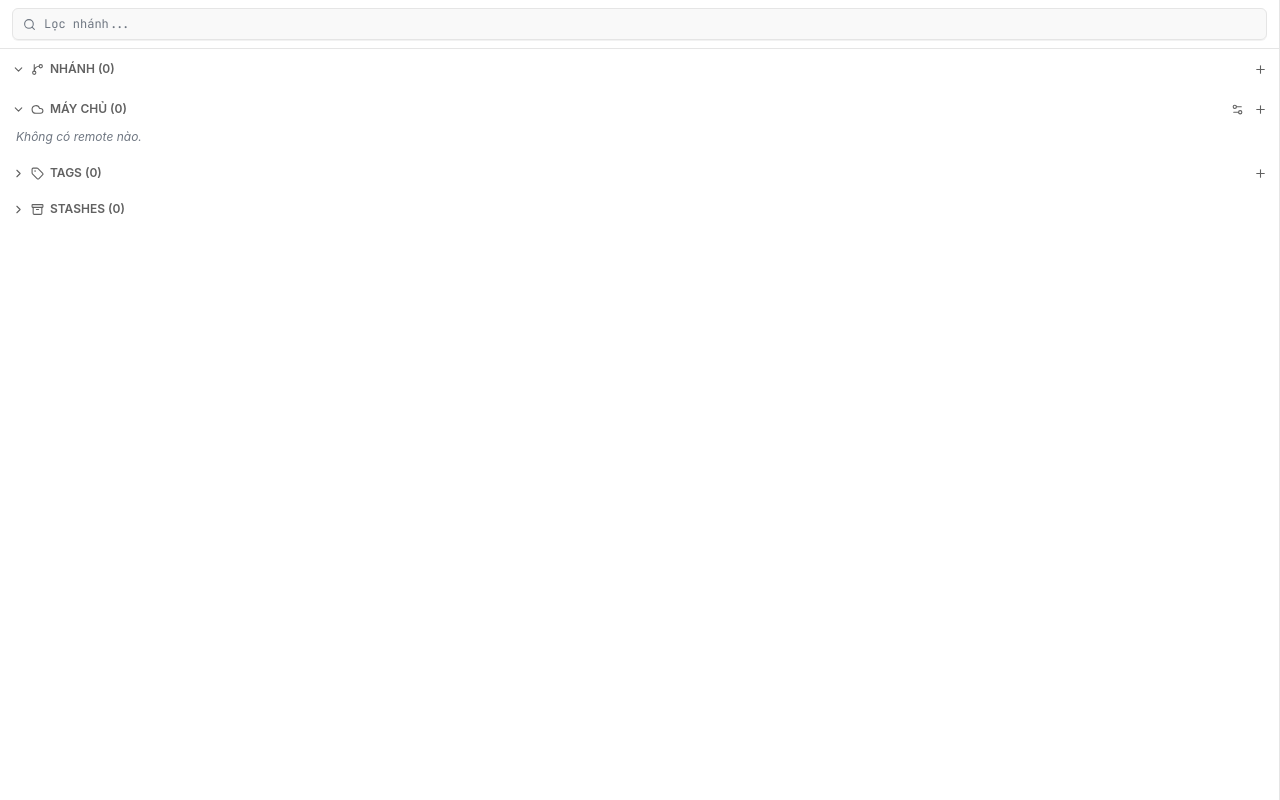
BranchSidebar - Tags Management › opens CreateTagModal when clicking the (+) button in Tags header
Click the button named "Tạo thẻ mới" at (1260, 173), box [1250,162,1271,184]
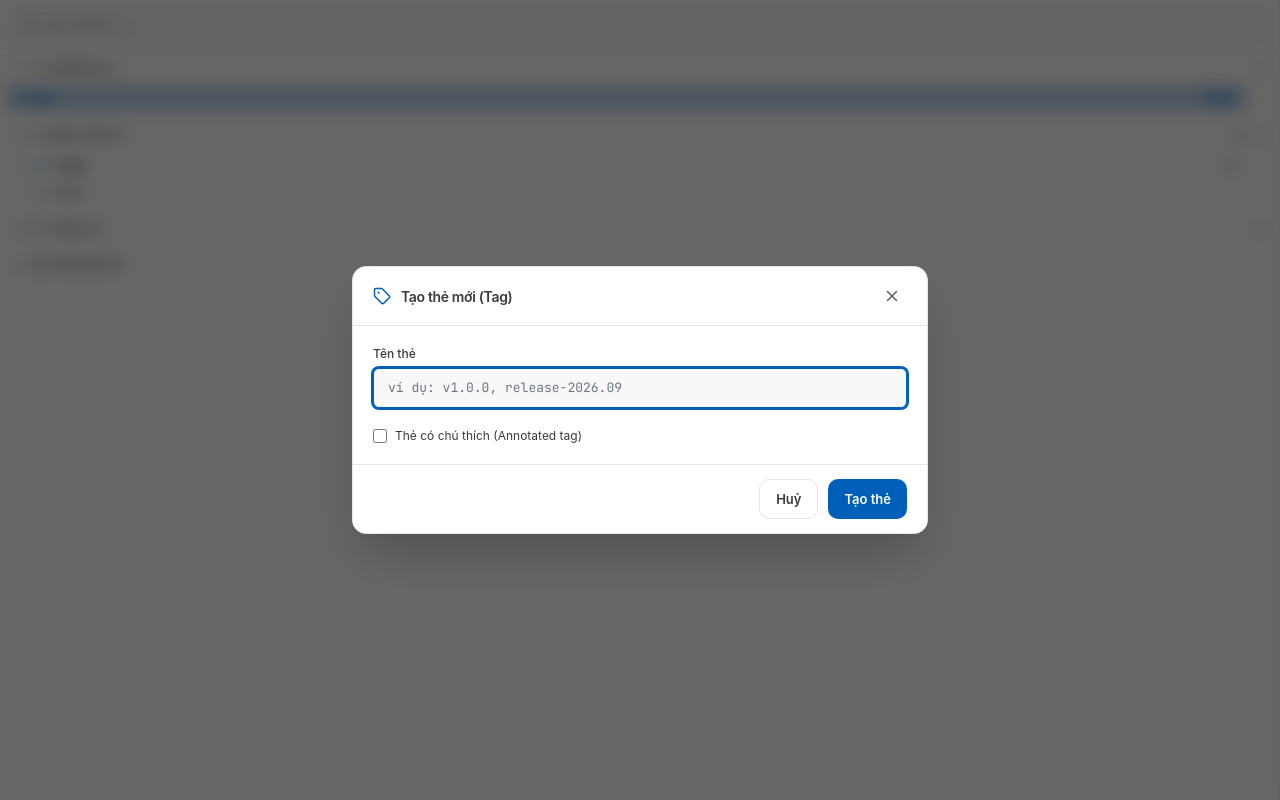
Check: the dialog is shown
Check: the heading "Tạo thẻ mới (Tag)" is shown, box [401,286,512,306]
